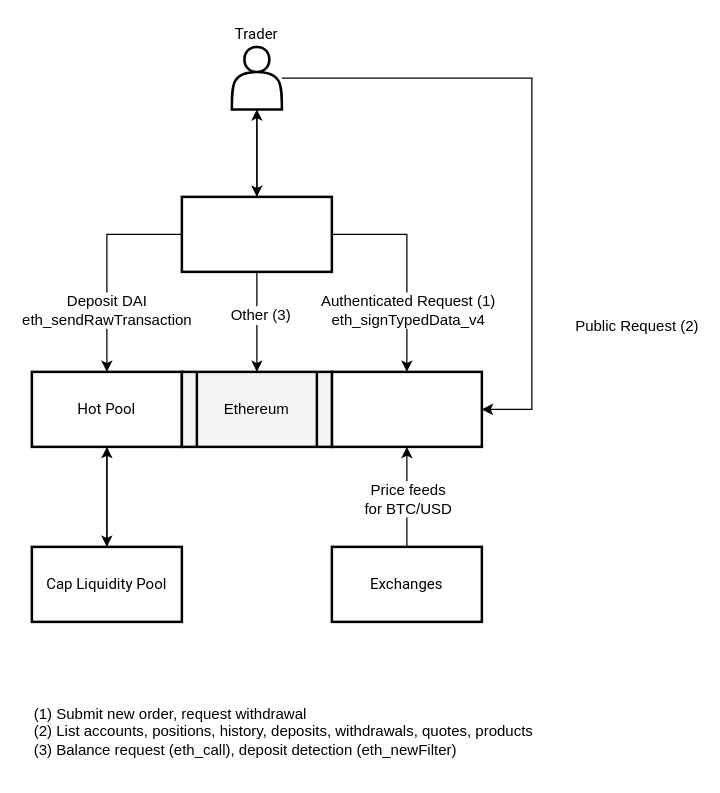
Some shapes in this 720 by 793 pixel diagram are drawn without their labels. The centre of each missing label's shape, as x and y in pixels:
Cap API: the point at 406,409
Ethereum Wallet: the point at 256,233
